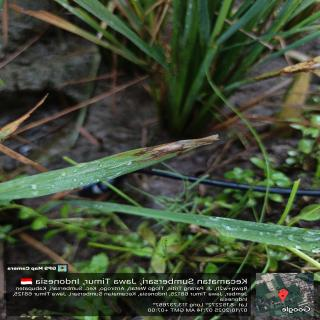Blast: (125, 141, 194, 166)
